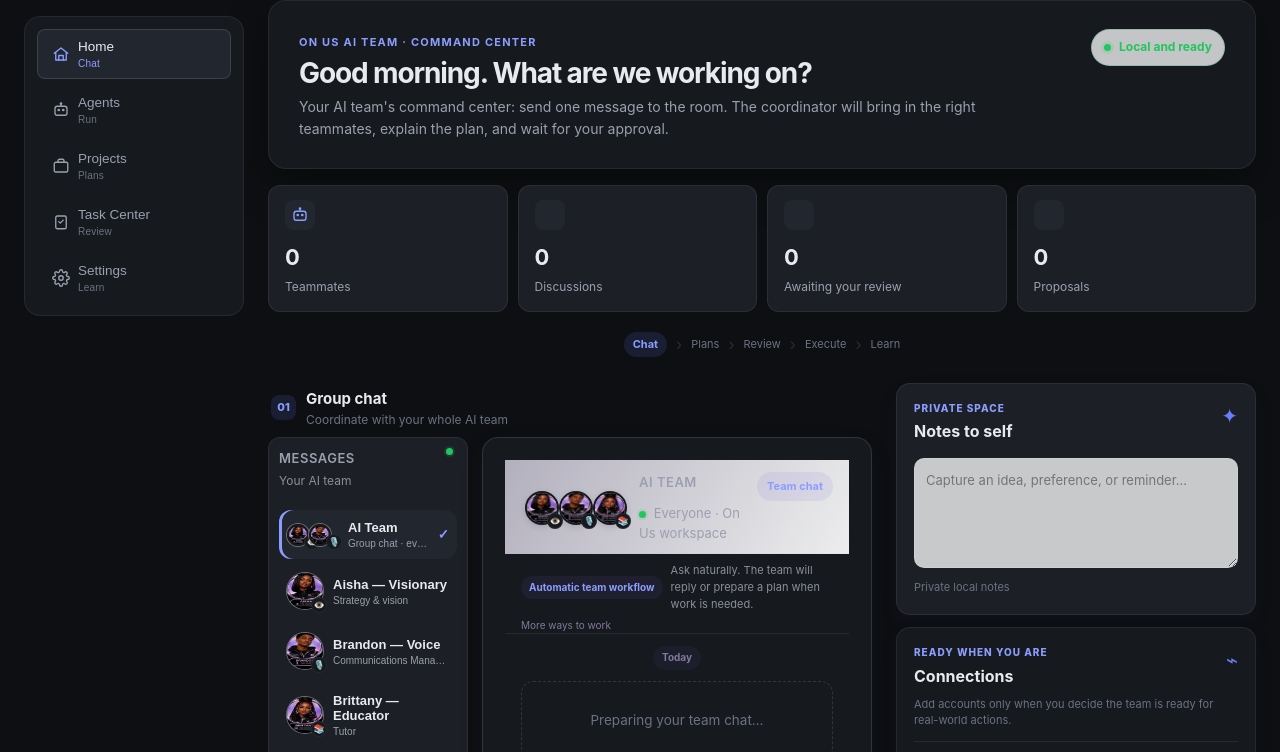
Test: Live Activity › renders nonzero counts
This screenshot has width=1280, height=752.
Step 1. Click the button "Home Chat" → (134, 54), box [37,29,231,79]
(page scrolled)
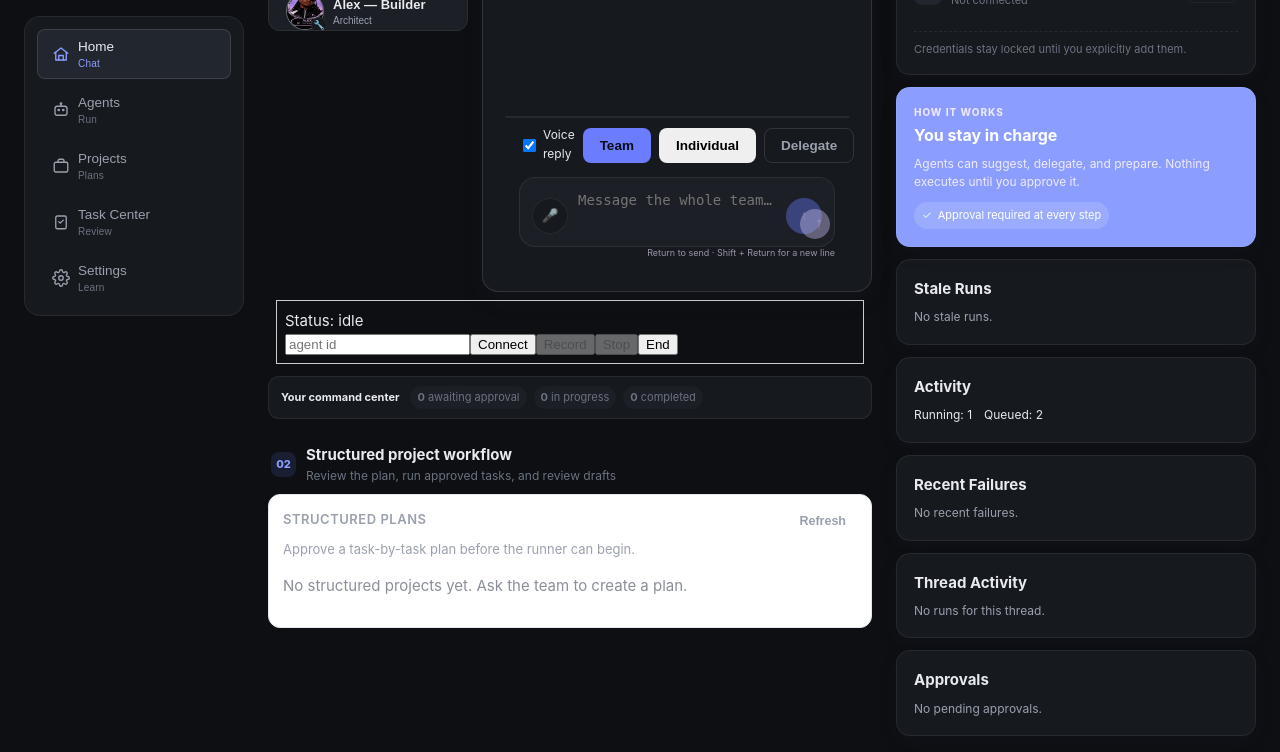
expect the text "Running: 1" is shown: met, box [914,406,972,425]
expect the text "Queued: 2" is shown: met, box [984,406,1043,425]
